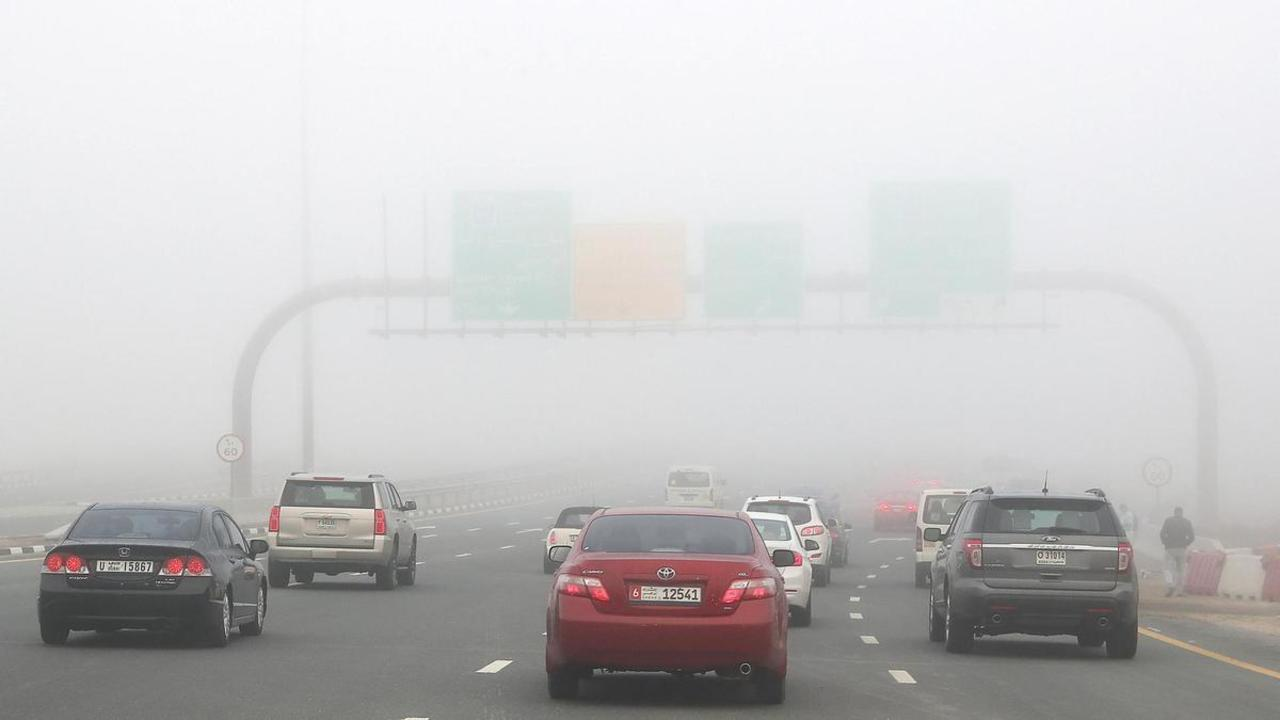car: (548, 499, 793, 706), (31, 499, 274, 651), (928, 491, 1140, 660), (266, 474, 421, 591), (744, 505, 820, 618), (914, 487, 975, 587), (775, 495, 831, 585), (539, 505, 606, 571), (660, 466, 728, 508), (874, 489, 918, 533), (829, 505, 852, 573)
person: (1159, 505, 1196, 598)
